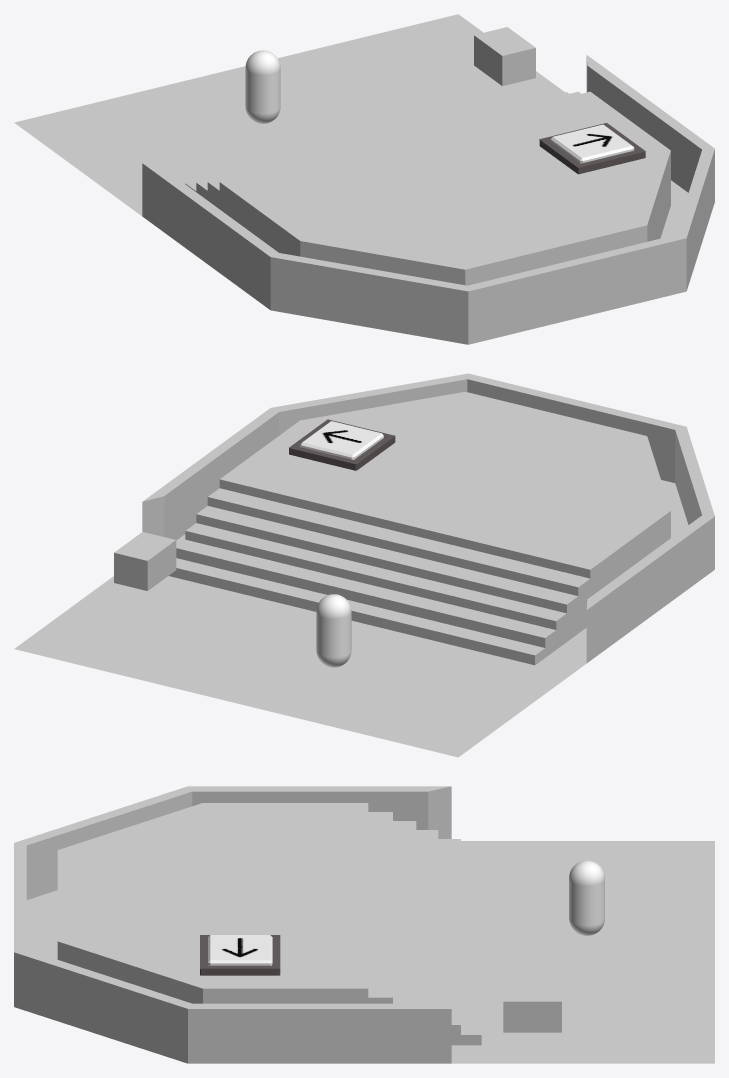
The model's file is cockpit_TEST_01.glb.
The picture shows the model from 3 angles, top to bottom: view 1: azimuth 30°, elevation 25°; view 2: azimuth 150°, elevation 25°; view 3: azimuth 270°, elevation 25°; orthographic projection. The views are drawn at different scales.
Visible parts, largest first — view 1: Plane, Cube, MeshInstance3D.001, Plane.002, Plane.001; view 2: Plane, Cube, MeshInstance3D.001, Plane.002, Plane.001; view 3: Plane, Cube, MeshInstance3D.001, Plane.002, Plane.001.
Part boxes in pixels (x1=…): Plane: x1=14, y1=14, x2=714, y2=344; Cube: x1=474, y1=27, x2=535, y2=86; MeshInstance3D.001: x1=245, y1=50, x2=280, y2=123; Plane.002: x1=550, y1=124, x2=634, y2=163; Plane.001: x1=539, y1=123, x2=645, y2=174; Plane: x1=14, y1=373, x2=714, y2=757; Cube: x1=114, y1=532, x2=176, y2=590; MeshInstance3D.001: x1=316, y1=594, x2=351, y2=667; Plane.002: x1=300, y1=421, x2=383, y2=459; Plane.001: x1=289, y1=419, x2=395, y2=470; Plane: x1=14, y1=786, x2=714, y2=1063; Cube: x1=503, y1=985, x2=561, y2=1032; MeshInstance3D.001: x1=569, y1=860, x2=604, y2=935; Plane.002: x1=208, y1=935, x2=272, y2=965; Plane.001: x1=200, y1=935, x2=280, y2=975.
Bounding box in the file's own units: 13.11 × 1.99 × 17.44.
3 materials, 1 textured.
